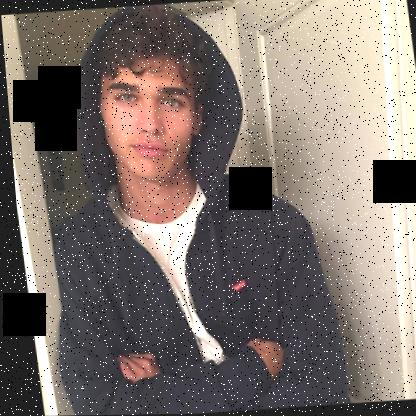Male: (88, 48, 207, 184)
